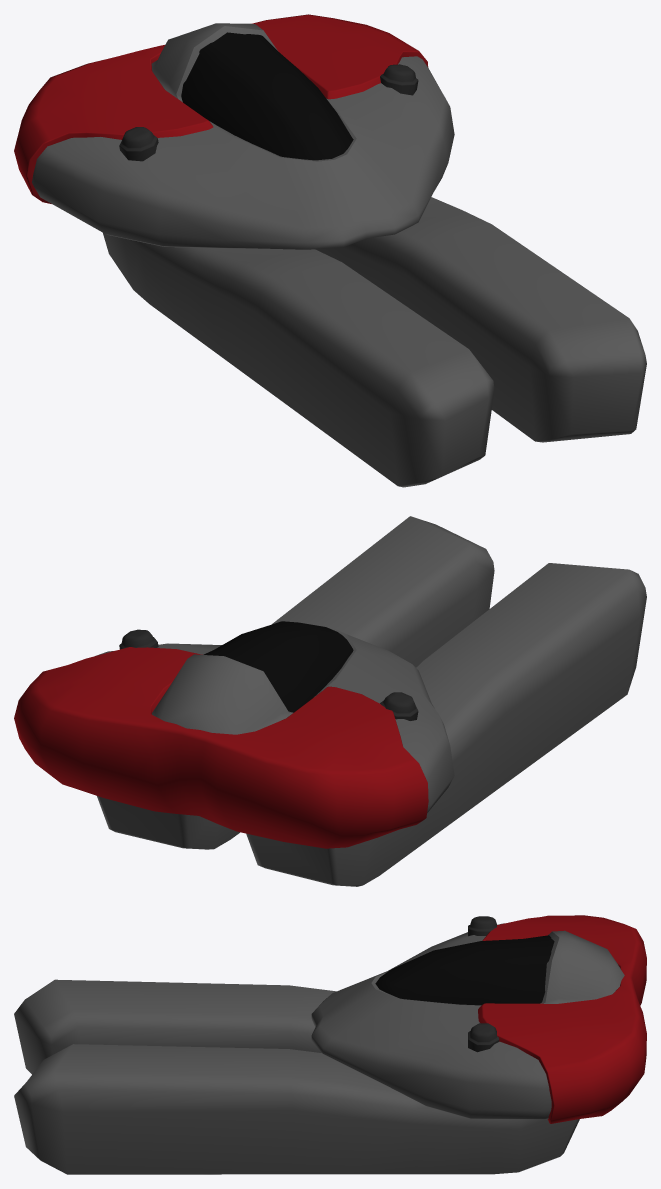
Rendered from Ship_enemy_01_Hull.fbx.
3 views of the same model, one above another, from view 1: azimuth 30°, elevation 25°; view 2: azimuth 150°, elevation 25°; view 3: azimuth 270°, elevation 25° (orthographic). The views are drawn at different scales.
Parts seen in each view (by area): view 1: Ship_enemy_01_Hull; view 2: Ship_enemy_01_Hull; view 3: Ship_enemy_01_Hull.
Part boxes in pixels (x1=…): Ship_enemy_01_Hull: x1=14, y1=14, x2=646, y2=487; Ship_enemy_01_Hull: x1=14, y1=516, x2=646, y2=886; Ship_enemy_01_Hull: x1=14, y1=915, x2=646, y2=1174.
Bounding box in the file's own units: 382 × 203 × 608.
